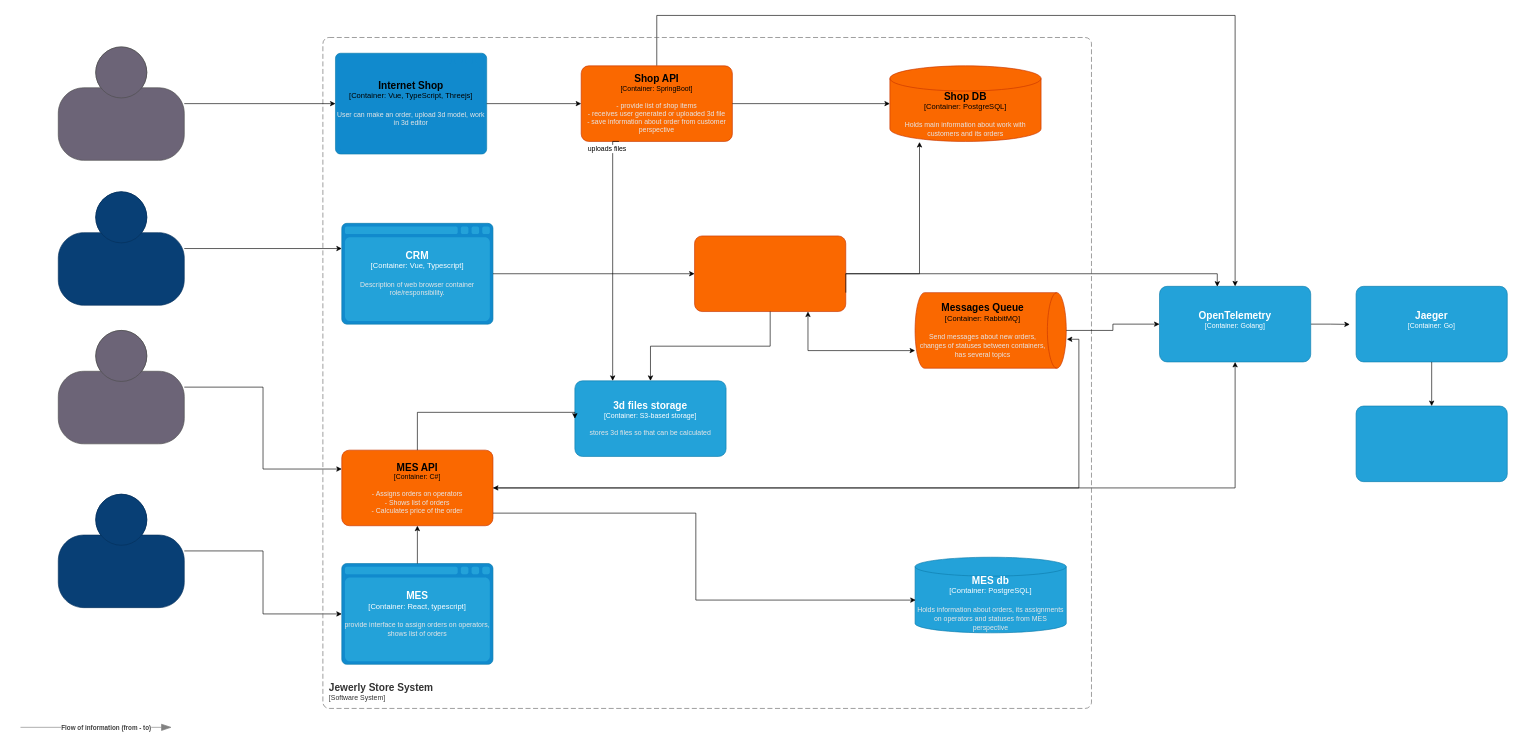
Image size: 1518x748. Some labels were removed from this diagram. The box of each missing label's shape, as (x1, y1, x2, y2) in pixels:
API user [Person] Description of external person.: (58, 330, 184, 444)
CRM API [Container: SpringBoot] Description of container role/responsibility.: (694, 235, 846, 312)
Customer [Person] Description of external person.: (58, 46, 184, 160)
Jaeger ui [Container: ]: (1355, 405, 1507, 482)
Operator [Person] Takes order in work, manufactures jewerly: (58, 494, 184, 608)
Seller [Person] Operates with order, confirms manufacturing for the user: (58, 191, 184, 305)
